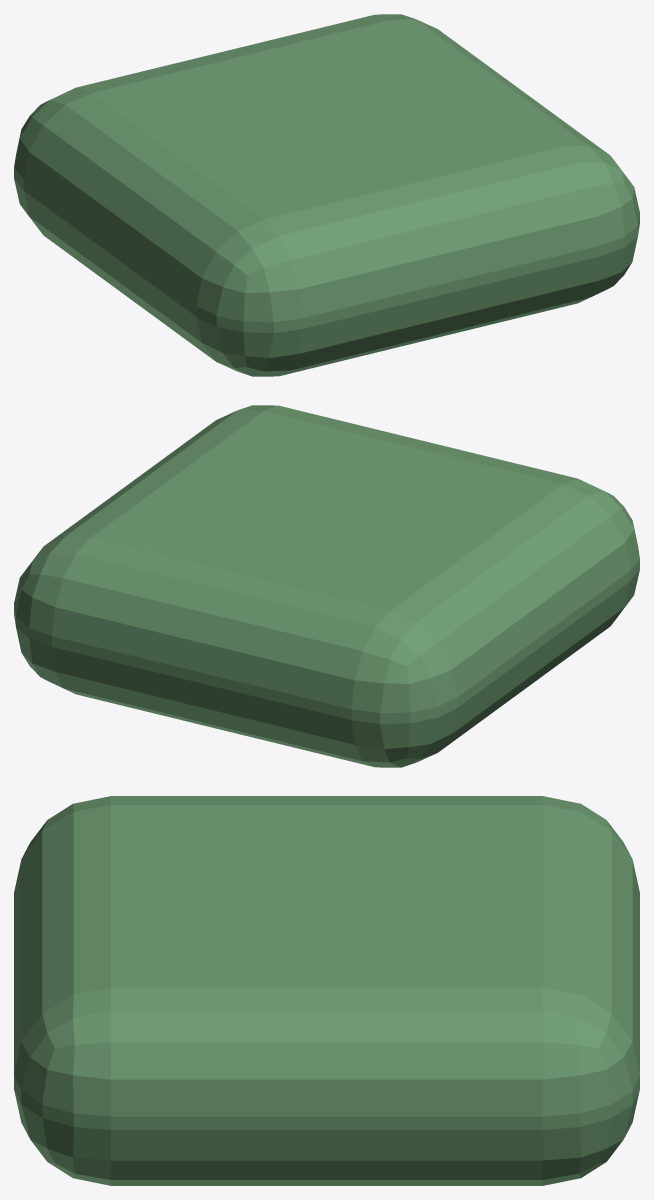
3 renders of one model, top to bottom at view 1: azimuth 30°, elevation 25°; view 2: azimuth 150°, elevation 25°; view 3: azimuth 270°, elevation 25°, orthographic. The views are drawn at different scales.
Parts seen in each view (by area): view 1: Cushion; view 2: Cushion; view 3: Cushion.
Part boxes in pixels (<box>): Cushion: <box>14,14,639,376</box>; Cushion: <box>14,405,639,767</box>; Cushion: <box>14,796,639,1185</box>.
Bounding box in the file's own units: 0.42 × 0.14 × 0.42.
